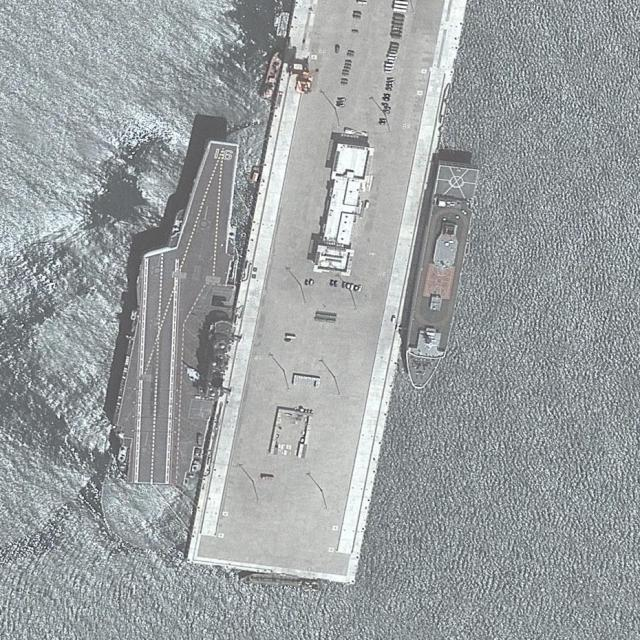Aircraft Carrier: (98, 127, 271, 498)
Other Warship: (394, 154, 484, 399)
